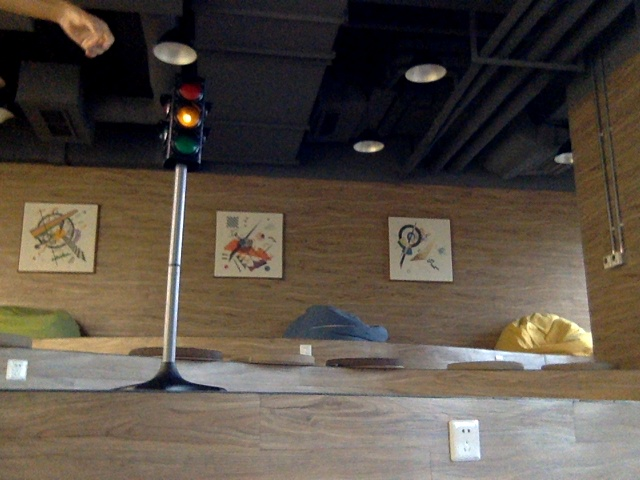yellow: (170, 76, 202, 155)
